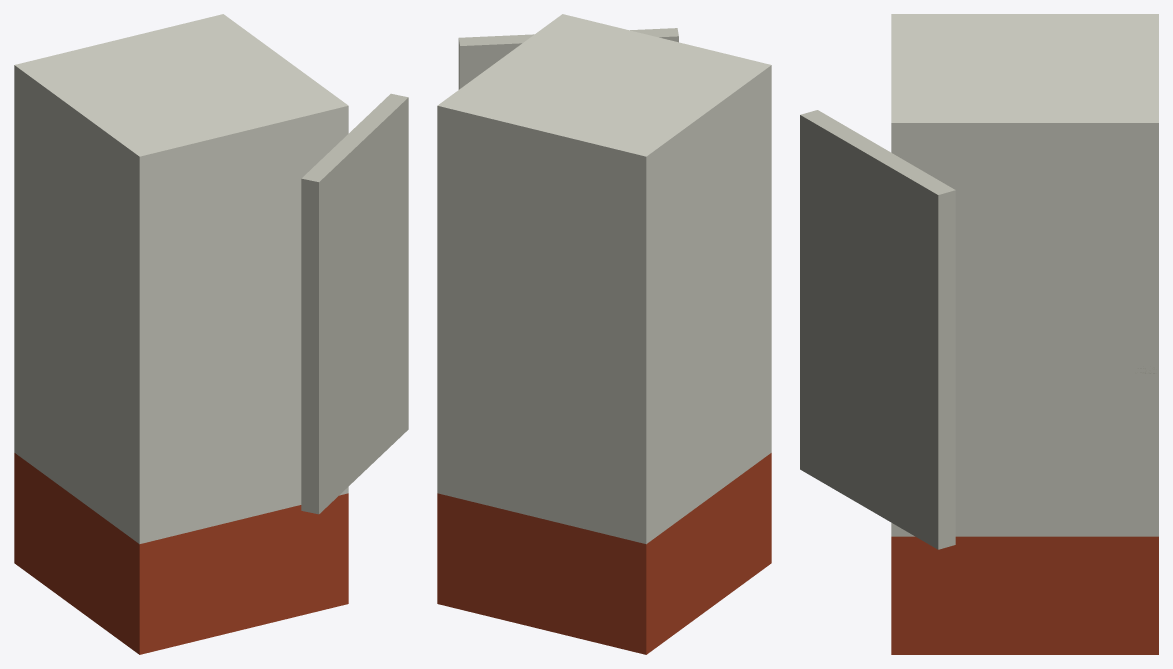
The model's file is env_r7_old_fridge.glb.
3 renders of one model, left to right at view 1: azimuth 30°, elevation 25°; view 2: azimuth 150°, elevation 25°; view 3: azimuth 270°, elevation 25°, orthographic. The views are drawn at different scales.
Parts seen in each view (by area): view 1: env_r7_old_fridge; view 2: env_r7_old_fridge; view 3: env_r7_old_fridge.
Boxes of the visible parts, x1,y1,x2,y2 form: env_r7_old_fridge: (14, 14, 408, 654); env_r7_old_fridge: (437, 14, 771, 654); env_r7_old_fridge: (800, 14, 1158, 654).
Size of the model in its own units: 1.1 by 1.8 by 1.1.
Materials: 1 (1 with a texture image).
